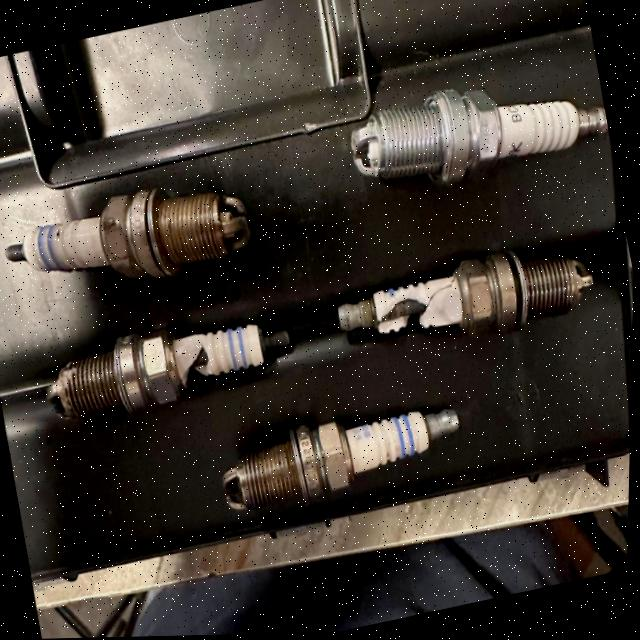damaged_spark-plug: (333, 236, 597, 365), (43, 314, 301, 429)
spark-plug: (335, 60, 612, 201), (4, 167, 255, 306), (222, 404, 469, 507)
